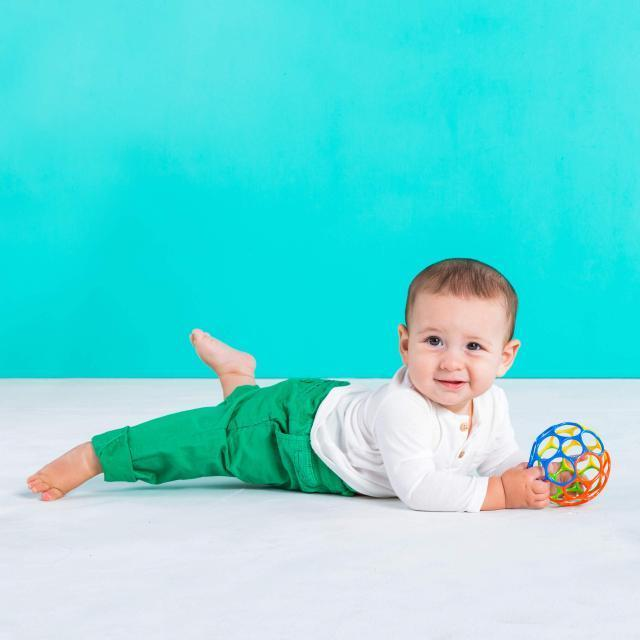hard-toy: (529, 422, 610, 506)
